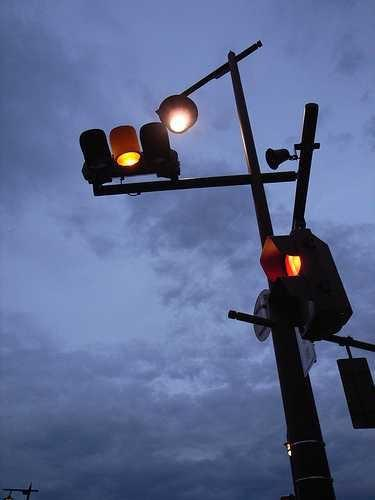red: (261, 227, 352, 342)
